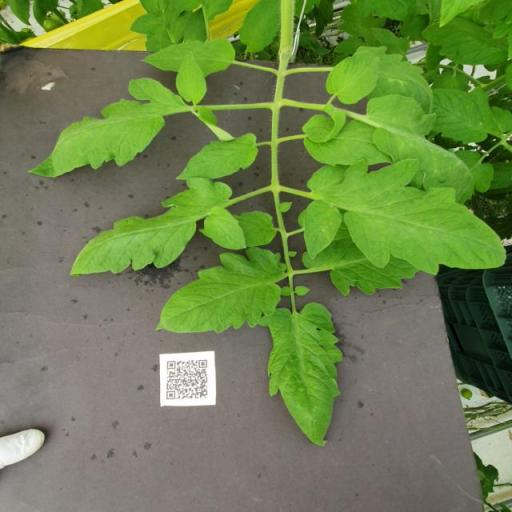Healthy: (302, 158, 506, 276), (70, 178, 244, 276), (27, 76, 185, 178), (254, 301, 344, 446), (154, 245, 288, 335), (140, 36, 239, 76), (176, 132, 258, 180), (324, 52, 381, 103), (236, 0, 280, 51), (176, 50, 208, 106)
